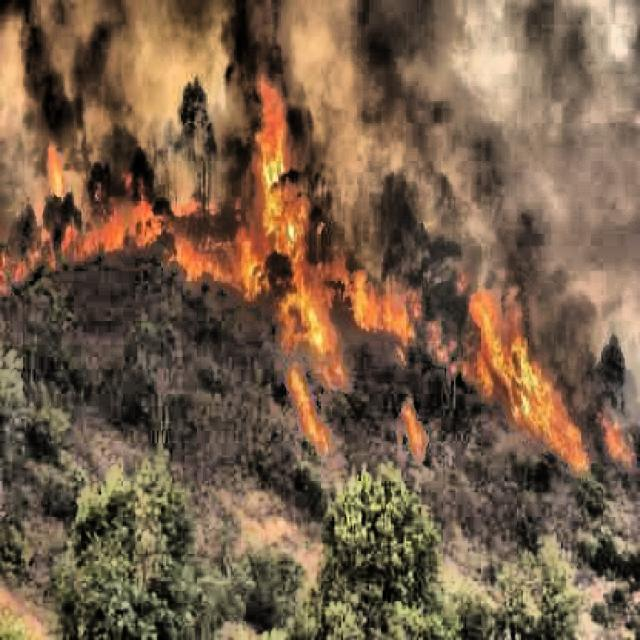Fire: (0, 75, 628, 468)
